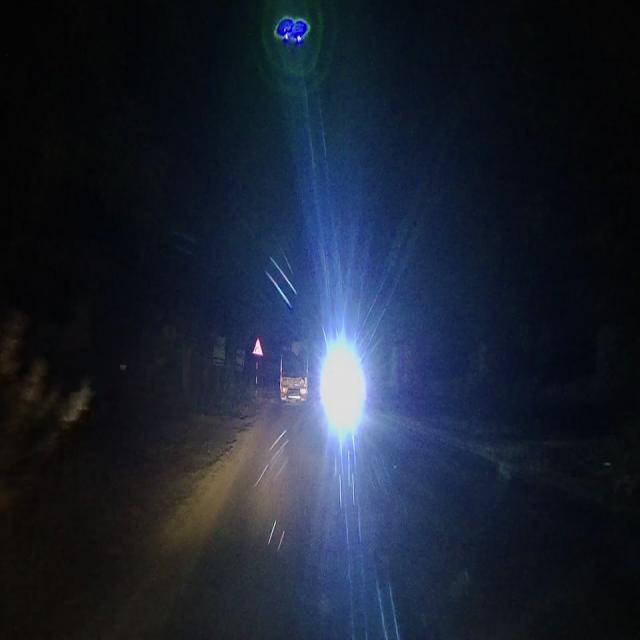right-hand-curve: (251, 334, 264, 359)
